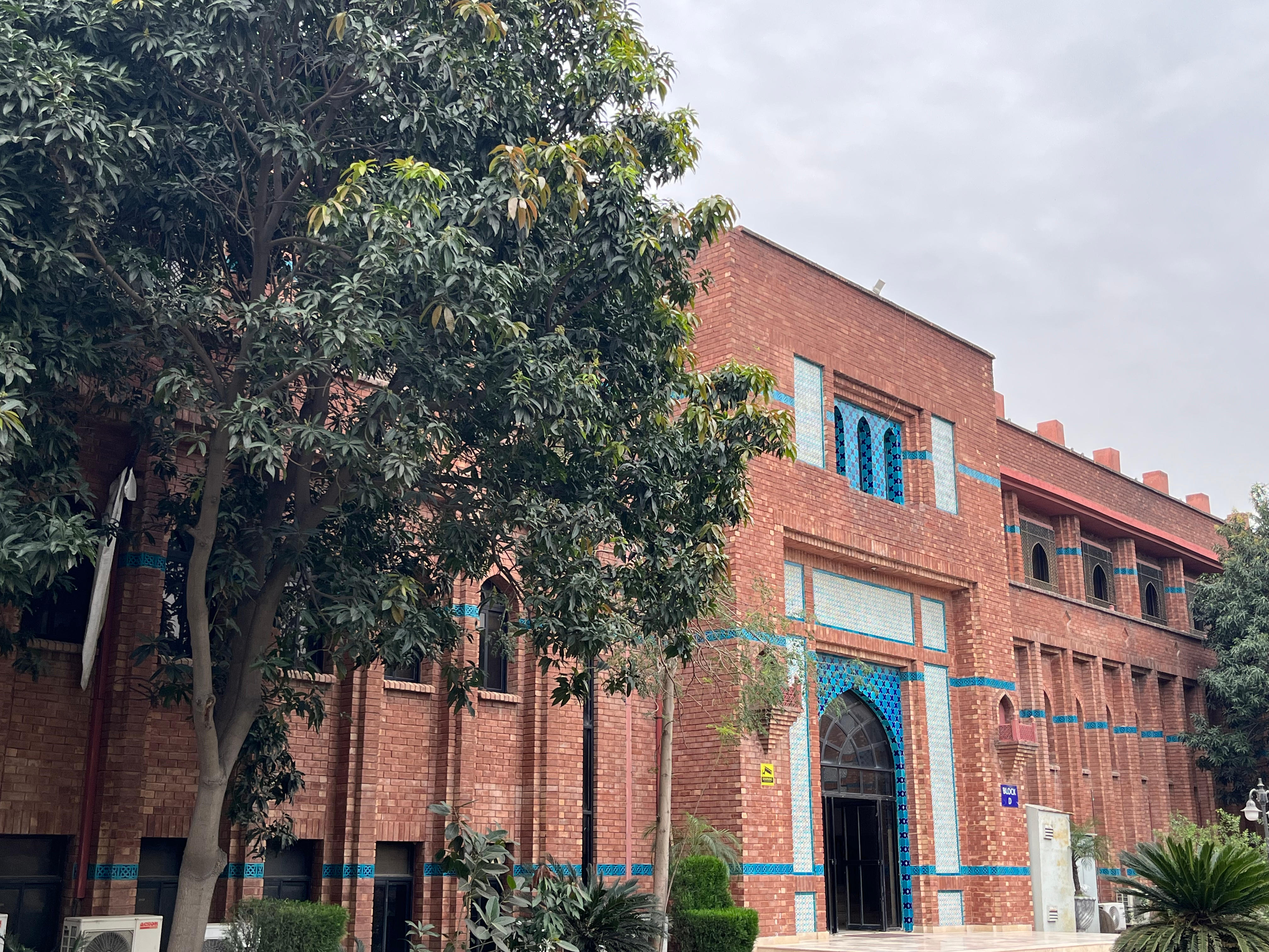Block D: (0, 222, 1269, 943)
